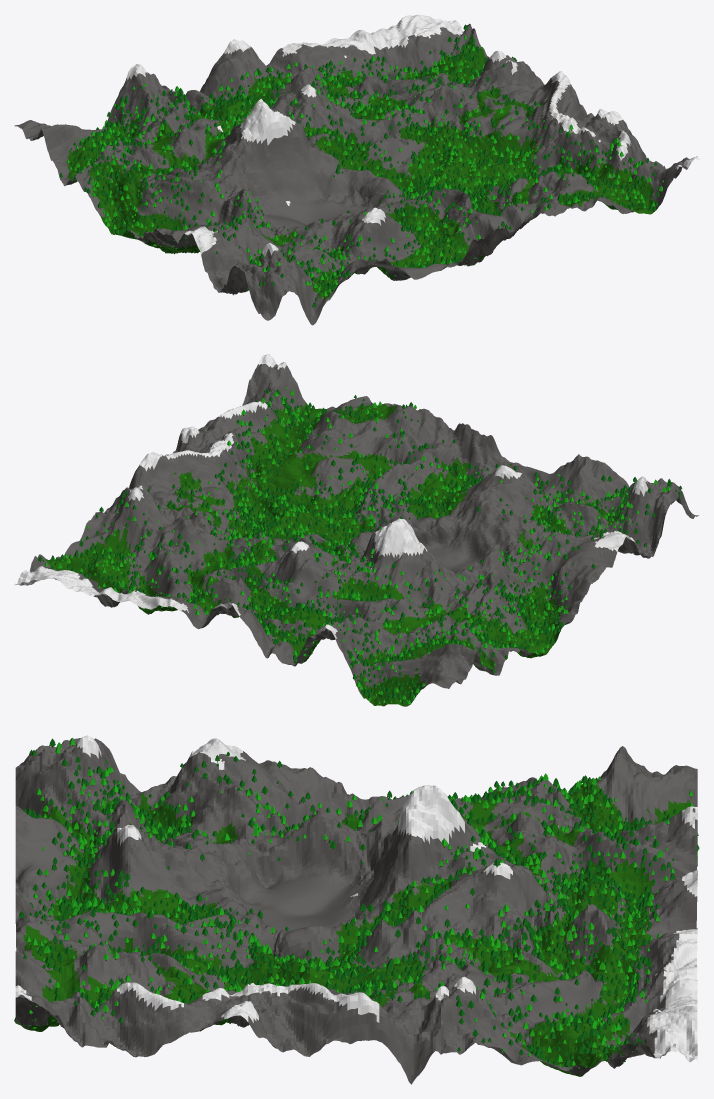
The model's file is landscape.gltf.
3 renders of one model, top to bottom at view 1: azimuth 30°, elevation 25°; view 2: azimuth 150°, elevation 25°; view 3: azimuth 270°, elevation 25°, orthographic. The views are drawn at different scales.
Parts seen in each view (by area): view 1: landscape; view 2: landscape; view 3: landscape.
Boxes of the visible parts, x1,y1,x2,y2 form: landscape: (14,14,699,325); landscape: (14,354,698,706); landscape: (14,735,699,1084).
Size of the model in its own units: 7.03 by 1.57 by 7.04.
